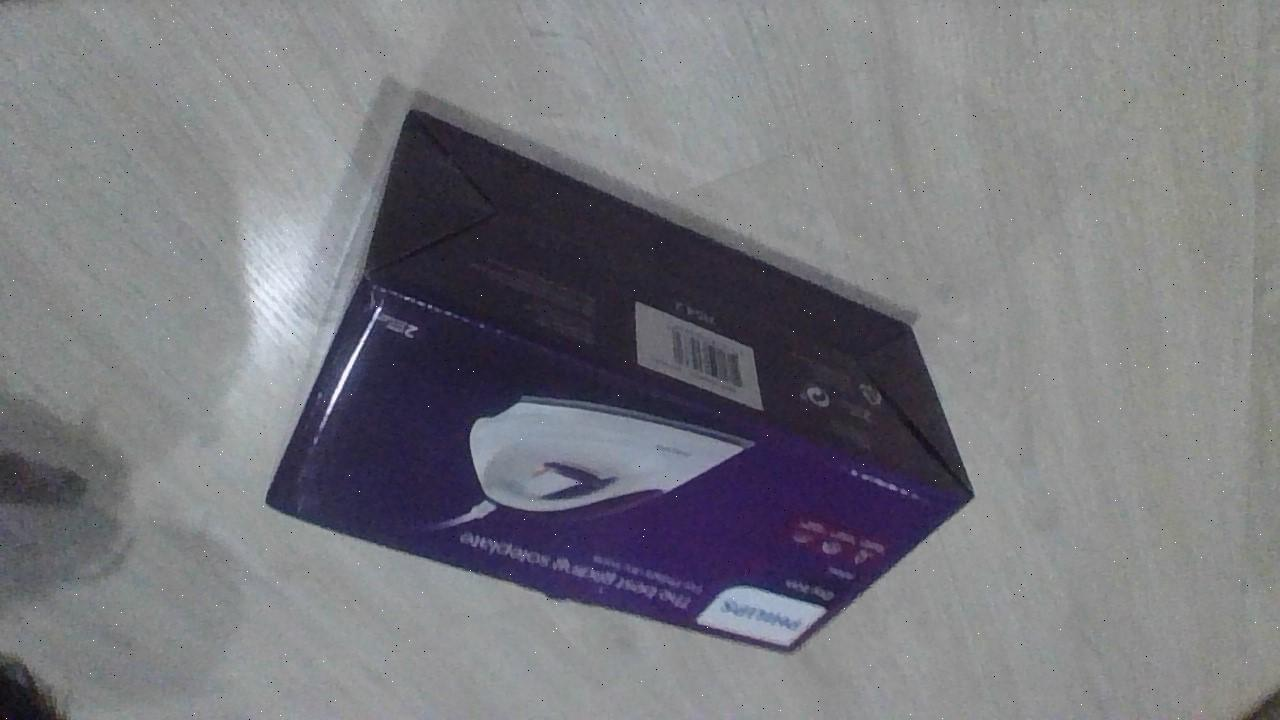IRON: (262, 103, 980, 658)
